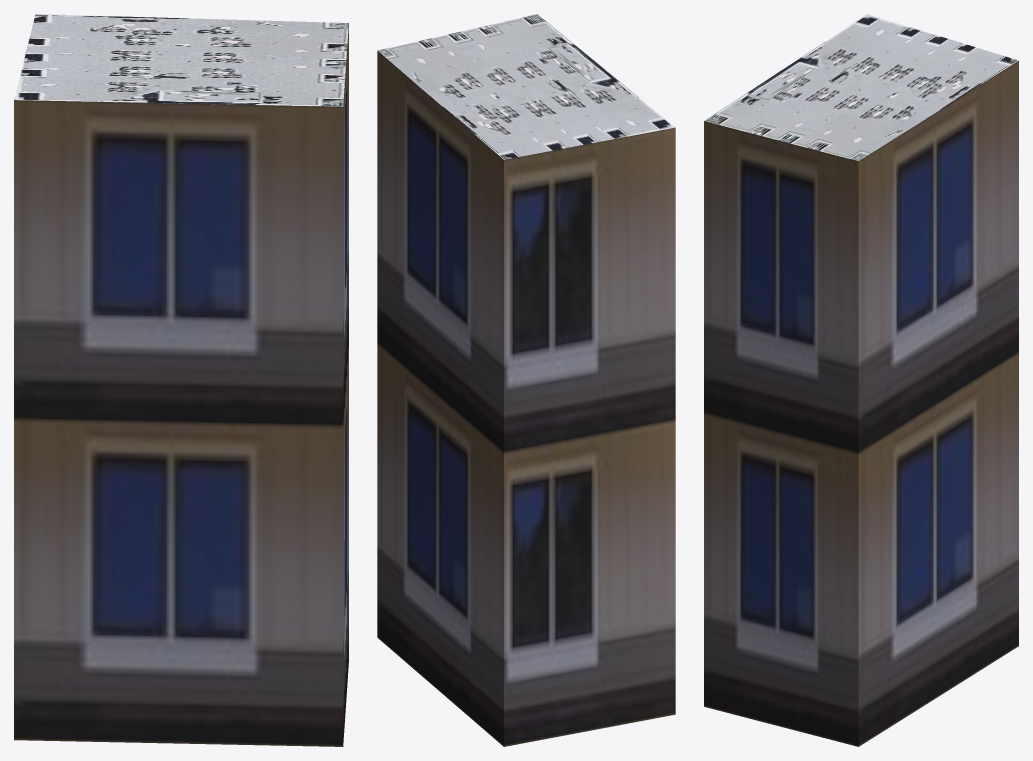
File: ResTex__3912.fbx
3 views of the same model, side by side, from view 1: azimuth 30°, elevation 25°; view 2: azimuth 150°, elevation 25°; view 3: azimuth 270°, elevation 25° (orthographic). The views are drawn at different scales.
Parts seen in each view (by area): view 1: CityEngineMaterial_5_m, CityEngineMaterial_8_m; view 2: CityEngineMaterial_5_m, CityEngineMaterial_8_m; view 3: CityEngineMaterial_5_m, CityEngineMaterial_8_m.
Part boxes in pixels (bbox=[...]): CityEngineMaterial_5_m: bbox=[14, 23, 348, 746]; CityEngineMaterial_8_m: bbox=[14, 14, 348, 106]; CityEngineMaterial_5_m: bbox=[377, 51, 675, 746]; CityEngineMaterial_8_m: bbox=[377, 14, 675, 159]; CityEngineMaterial_5_m: bbox=[704, 61, 1018, 746]; CityEngineMaterial_8_m: bbox=[704, 14, 1018, 161].
Bounding box in the file's own units: 3.24 × 6 × 2.92.
2 materials, 2 textured.
